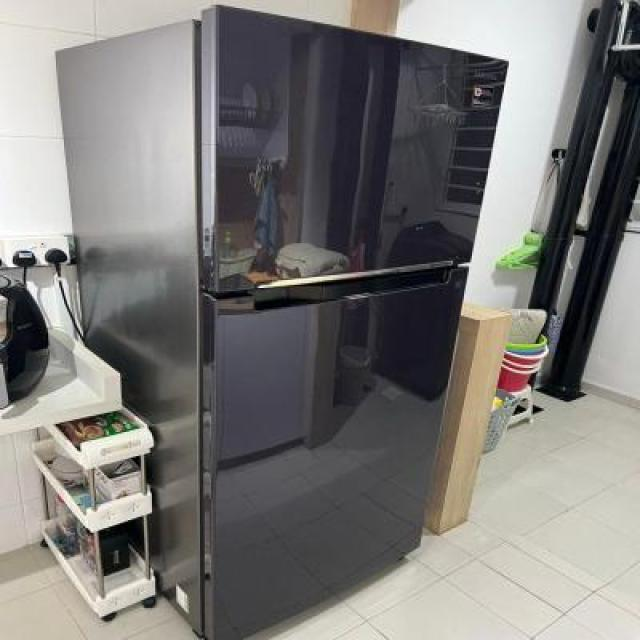refrigerator: (193, 8, 513, 634), (195, 5, 509, 638), (215, 6, 511, 640)
